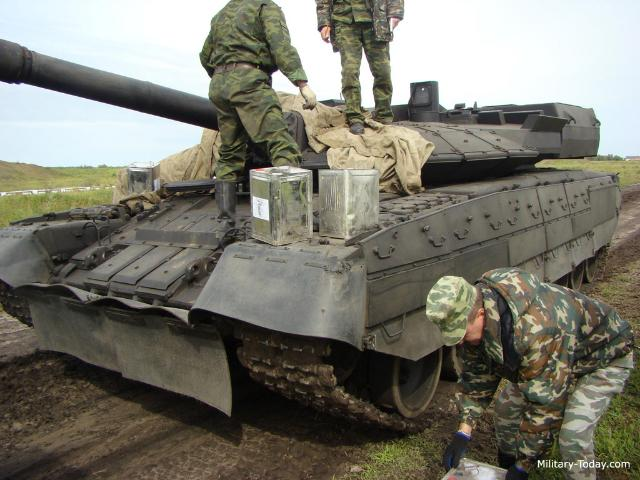other: (424, 270, 634, 462), (211, 0, 298, 194), (313, 0, 403, 122)
tank: (0, 82, 616, 355)
